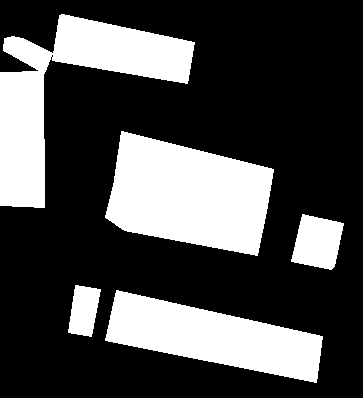parkingspot: (105, 290, 322, 382), (114, 131, 273, 212), (105, 176, 267, 255), (52, 14, 194, 83), (0, 71, 44, 207), (291, 214, 343, 269), (3, 36, 52, 73), (68, 285, 100, 336)
